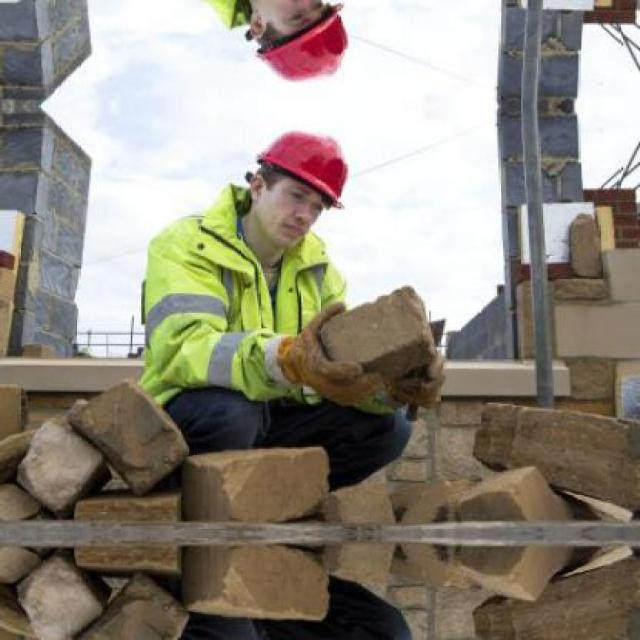Reflective-Jacket: (130, 199, 356, 410), (251, 5, 350, 84)
Safety-Helmet: (246, 125, 363, 214)
